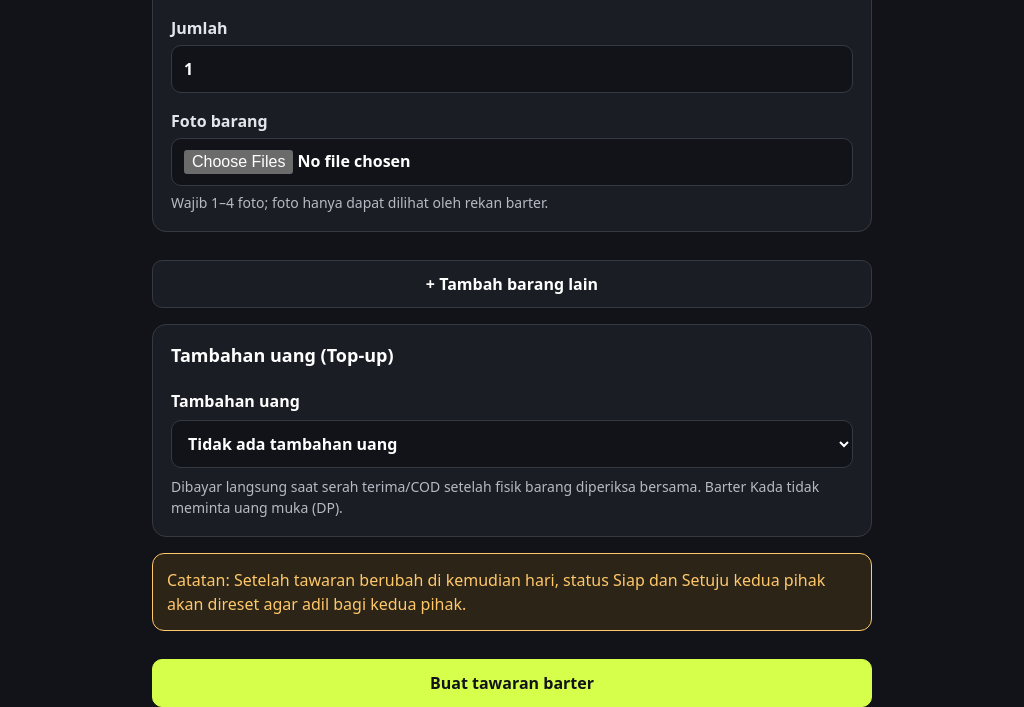
it: new trade proposal › does not submit an incomplete direct item
This screenshot has width=1024, height=707.
(page scrolled)
Click the button "Buat tawaran barter".
click(512, 683)  # box [152,659,872,706]
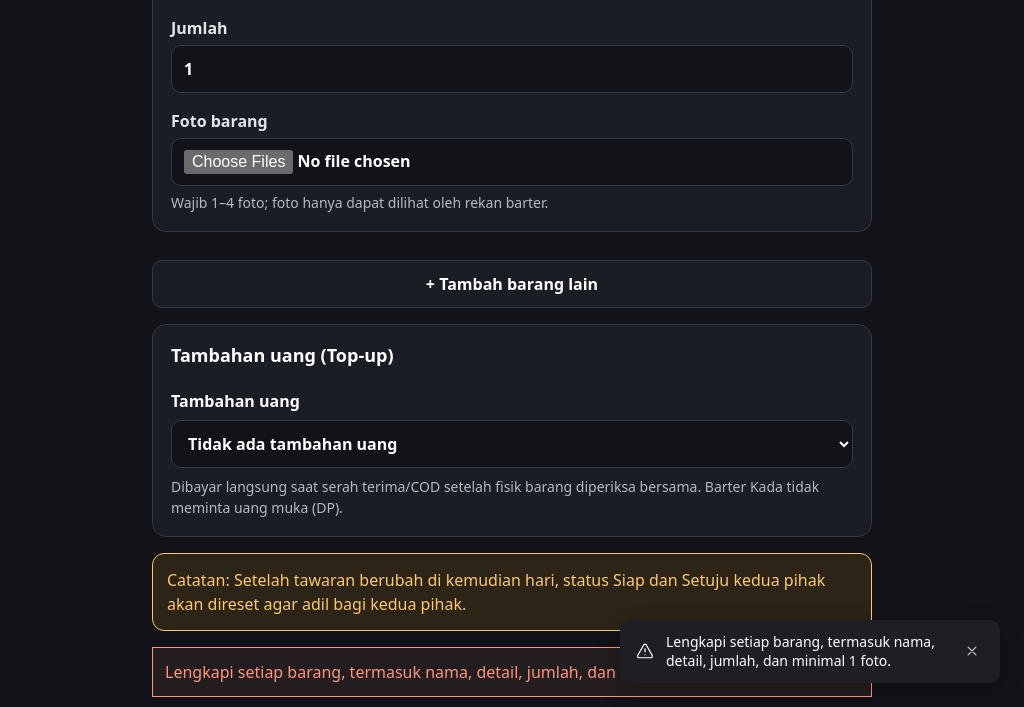
Now the message shows "Lengkapi setiap barang", box [165,661,734,683]
